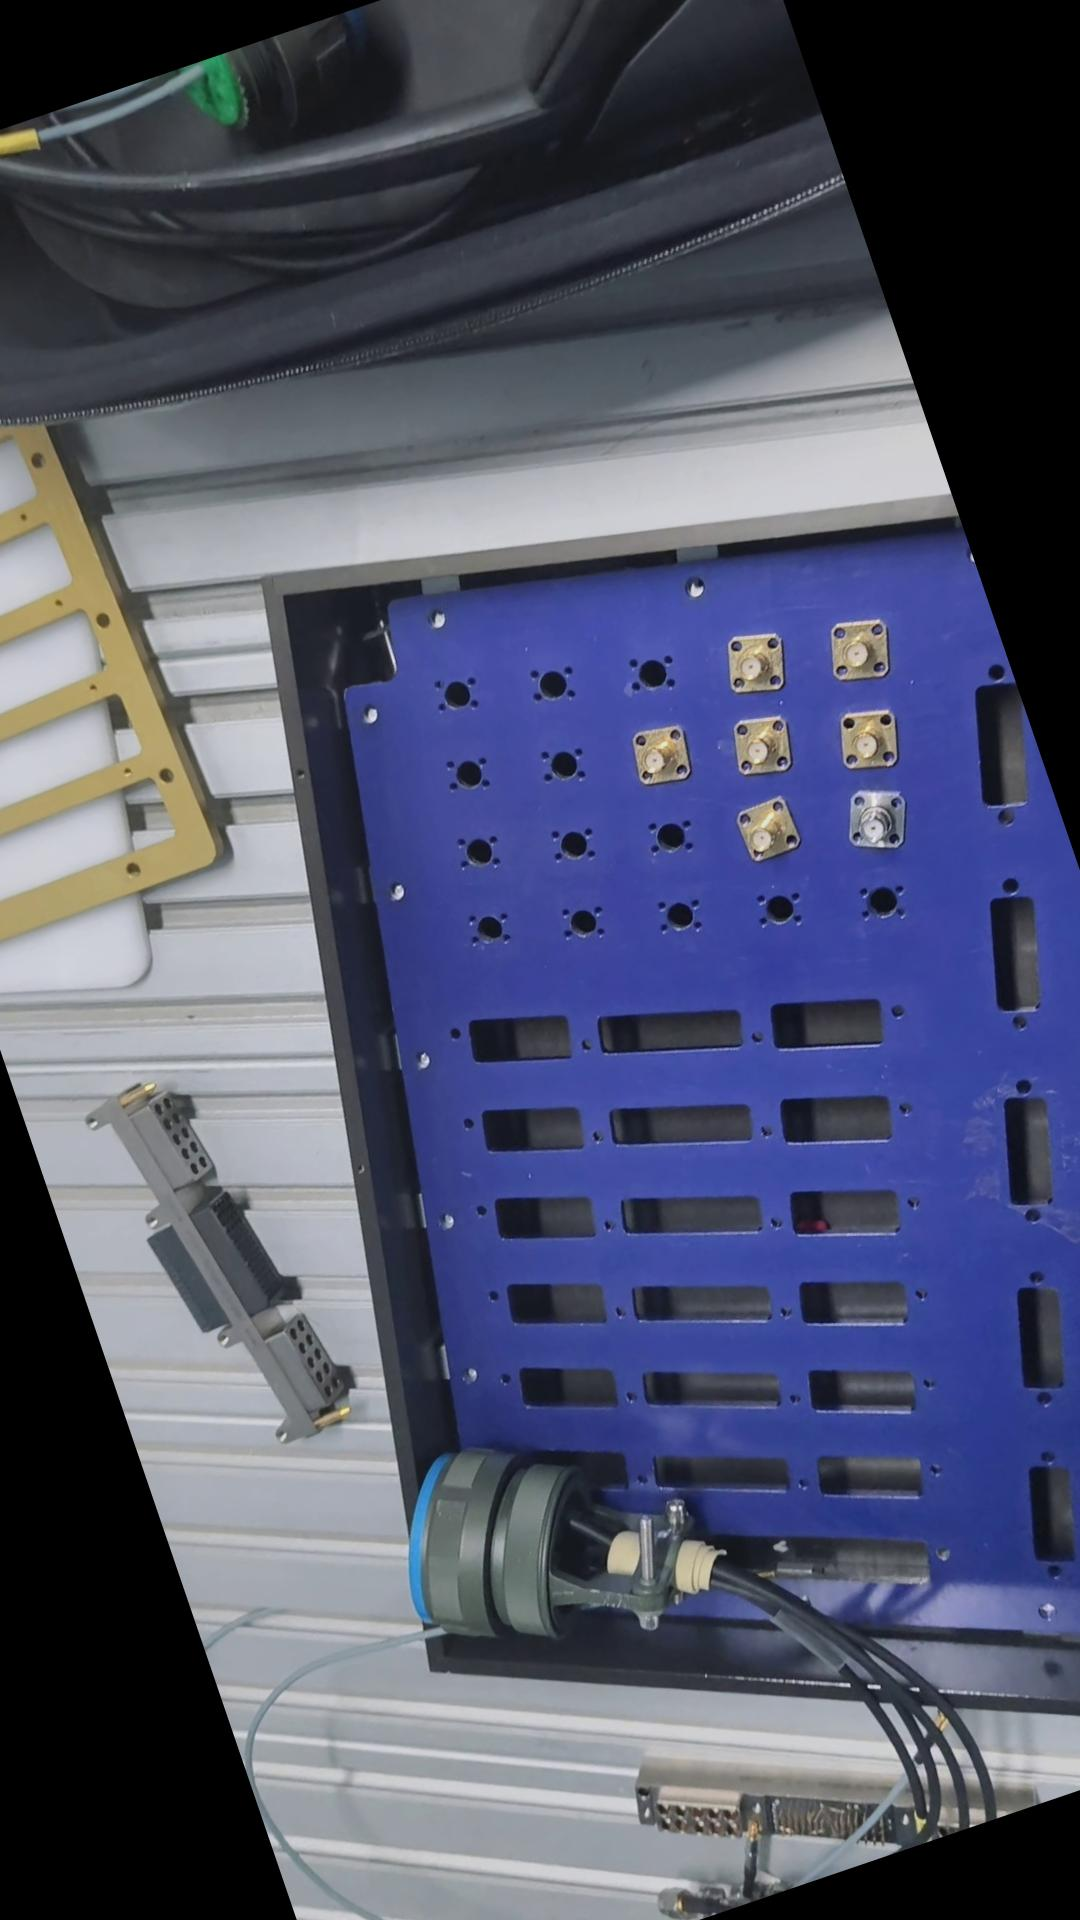SMA: (829, 773, 916, 865), (818, 698, 905, 781), (818, 609, 901, 694), (717, 704, 802, 786), (721, 793, 803, 872), (712, 625, 791, 704), (618, 723, 698, 796)
